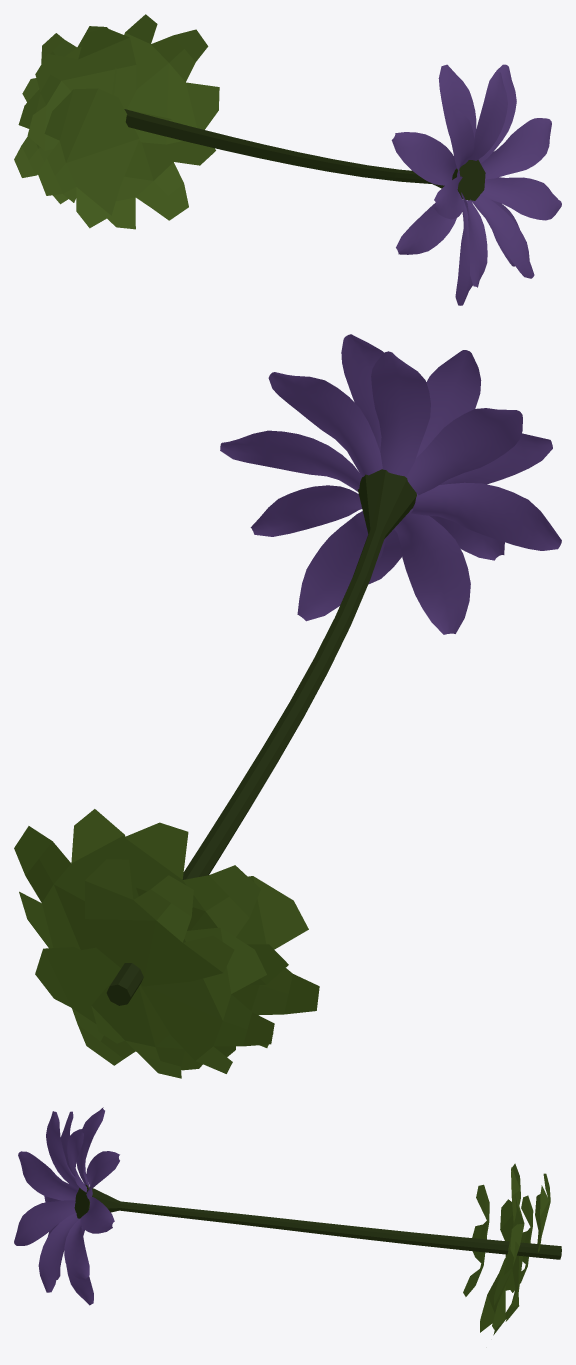
The model's file is Anemoon_tall.dae.
3 renders of one model, top to bottom at view 1: azimuth 30°, elevation 25°; view 2: azimuth 150°, elevation 25°; view 3: azimuth 270°, elevation 25°, orthographic. The views are drawn at different scales.
Parts seen in each view (by area): view 1: tiger1Flower, polySurface10, polySurface13, polySurface15, tiger1Main, polySurface14, polySurface16, polySurface3; view 2: tiger1Flower, tiger1Main, polySurface3, polySurface16, polySurface13, polySurface15, polySurface10, polySurface14, polySurface12; view 3: tiger1Flower, tiger1Main, polySurface14, polySurface10, polySurface15, polySurface13, polySurface3, polySurface12, polySurface16.
Boxes of the visible parts, x1=… form: tiger1Flower: x1=391, y1=64, x2=561, y2=305; polySurface10: x1=38, y1=88, x2=139, y2=228; polySurface13: x1=112, y1=14, x2=219, y2=144; polySurface15: x1=27, y1=28, x2=136, y2=150; tiger1Main: x1=124, y1=109, x2=485, y2=200; polySurface14: x1=107, y1=110, x2=215, y2=229; polySurface16: x1=14, y1=89, x2=68, y2=204; polySurface3: x1=22, y1=26, x2=107, y2=102; tiger1Flower: x1=220, y1=334, x2=561, y2=634; tiger1Main: x1=106, y1=469, x2=416, y2=1005; polySurface3: x1=85, y1=859, x2=234, y2=986; polySurface16: x1=140, y1=927, x2=274, y2=1073; polySurface13: x1=14, y1=809, x2=138, y2=949; polySurface15: x1=125, y1=822, x2=288, y2=984; polySurface10: x1=231, y1=876, x2=319, y2=1047; polySurface14: x1=35, y1=946, x2=202, y2=1070; polySurface12: x1=91, y1=981, x2=235, y2=1078; tiger1Flower: x1=14, y1=1107, x2=119, y2=1305; tiger1Main: x1=74, y1=1185, x2=561, y2=1259; polySurface14: x1=480, y1=1255, x2=508, y2=1335; polySurface10: x1=463, y1=1184, x2=489, y2=1296; polySurface15: x1=500, y1=1163, x2=520, y2=1257; polySurface13: x1=494, y1=1190, x2=524, y2=1305; polySurface3: x1=535, y1=1173, x2=550, y2=1252; polySurface12: x1=505, y1=1242, x2=523, y2=1321; polySurface16: x1=510, y1=1195, x2=533, y2=1292.
Size of the model in its own units: 12.54 by 13.01 by 24.98.
